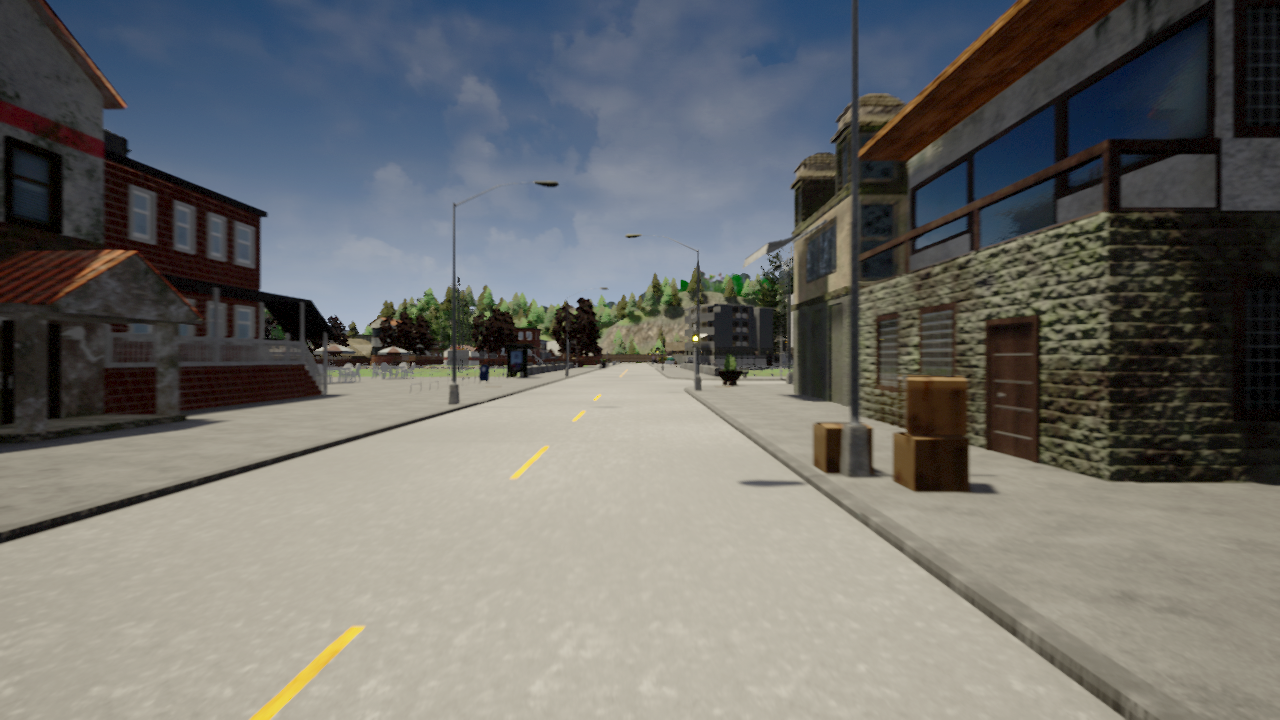yellow: (692, 330, 699, 349)
